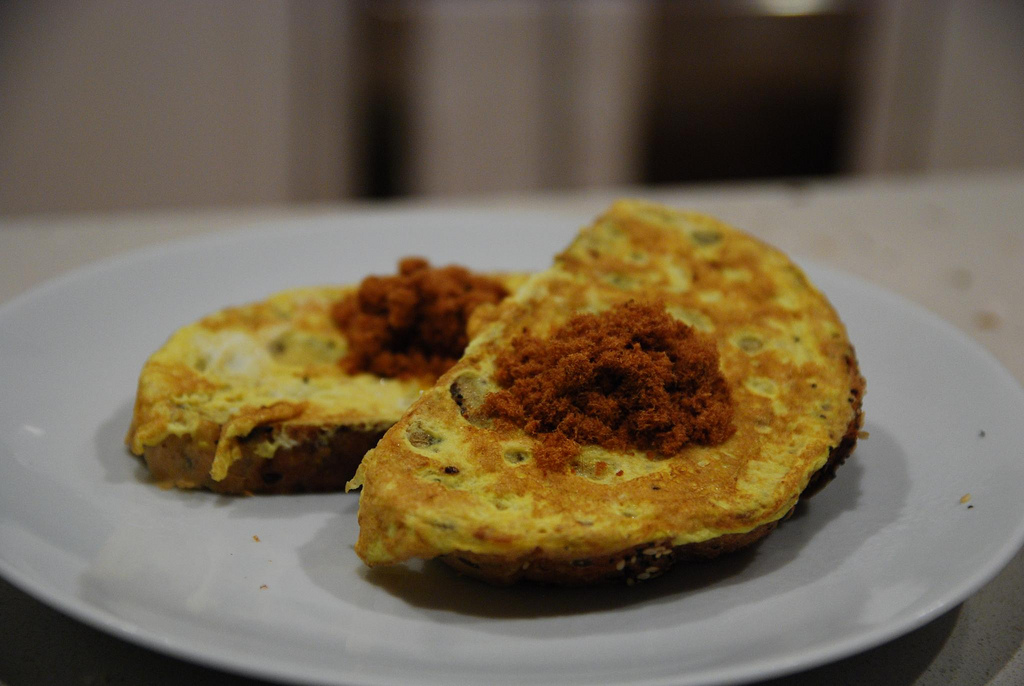slice of bread: (381, 194, 881, 609), (117, 261, 548, 481)
